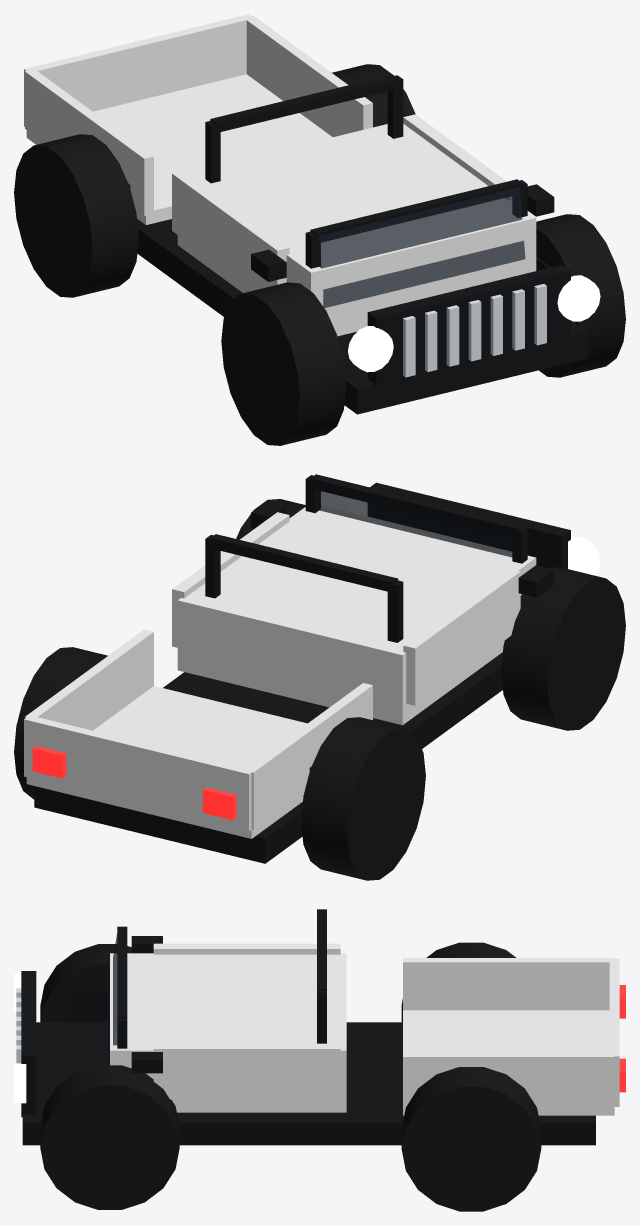
Rendered from beep-sabertooth.glb.
3 renders of one model, top to bottom at view 1: azimuth 30°, elevation 25°; view 2: azimuth 150°, elevation 25°; view 3: azimuth 270°, elevation 25°, orthographic. The views are drawn at different scales.
Parts seen in each view (by area): view 1: chassis, wheel-back-left, wheel-front-left, glass, wheel-front-right, wheel-back-right; view 2: chassis, wheel-back-left, wheel-front-left, glass, wheel-back-right; view 3: chassis, wheel-back-right, wheel-front-right, wheel-front-left, wheel-back-left, glass.
Boxes of the visible parts, box(x1,y1,x2,y2) form: chassis: box(24, 14, 600, 414); wheel-back-left: box(14, 134, 138, 297); wheel-front-left: box(221, 282, 346, 445); glass: box(319, 187, 525, 307); wheel-front-right: box(536, 214, 625, 377); wheel-back-right: box(332, 64, 415, 127); chassis: box(24, 474, 600, 863); wheel-back-left: box(301, 717, 425, 880); wheel-front-left: box(501, 567, 625, 730); glass: box(317, 490, 512, 557); wheel-back-right: box(14, 647, 107, 799); chassis: box(14, 909, 625, 1145); wheel-back-right: box(401, 1067, 541, 1211); wheel-front-right: box(40, 1065, 179, 1209); wheel-front-left: box(40, 944, 131, 1022); wheel-back-left: box(401, 942, 516, 1022); glass: box(107, 933, 117, 1065).
Bounding box in the file's own units: 2.74 × 1.68 × 4.91.
